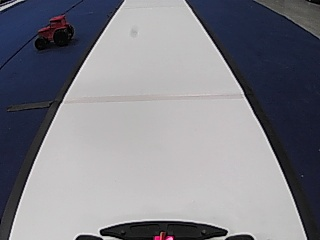tractor: (31, 11, 73, 50)
